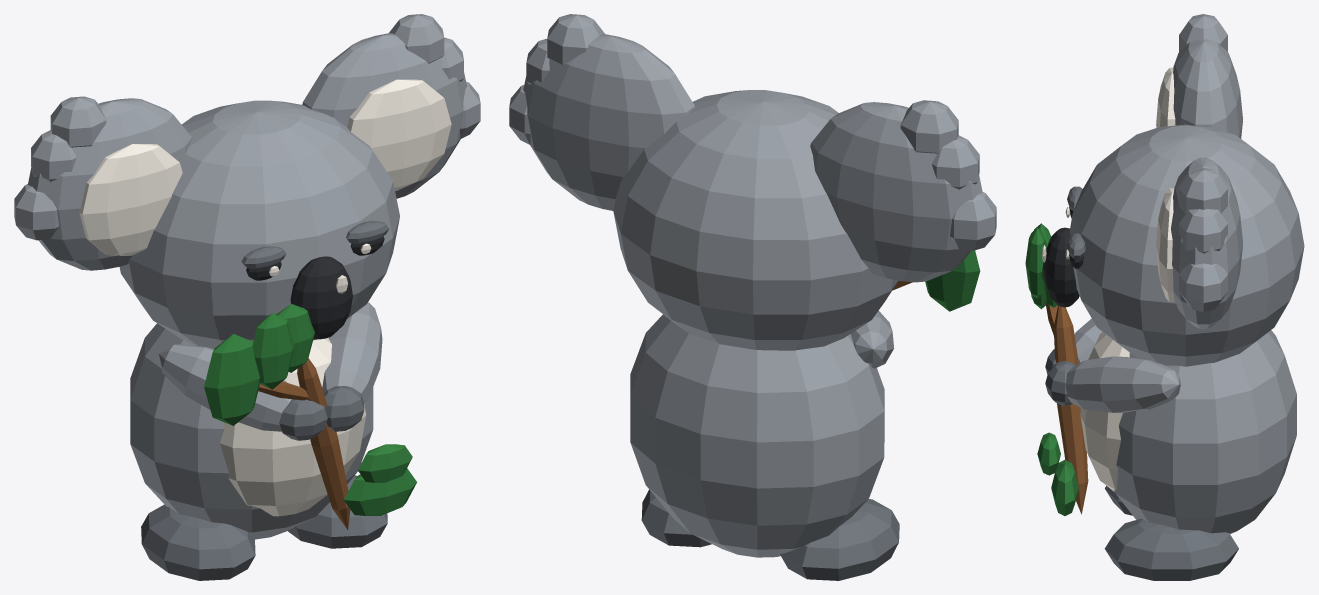
File: chunky-koala-pet.glb
3 views of the same model, side by side, from view 1: azimuth 30°, elevation 25°; view 2: azimuth 150°, elevation 25°; view 3: azimuth 270°, elevation 25° (orthographic). The views are drawn at different scales.
Visible parts, largest first — view 1: Koala; view 2: Koala; view 3: Koala.
Part boxes in pixels (box(x1,y1,x2,y2)): Koala: box(14, 14, 480, 580); Koala: box(509, 14, 996, 580); Koala: box(1025, 14, 1304, 580).
Bounding box in the file's own units: 2.45 × 2.4 × 1.37.
